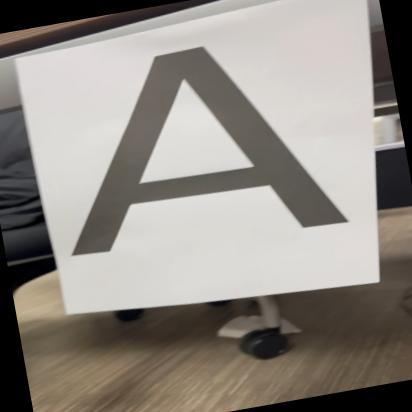seat: (32, 21, 350, 274)
